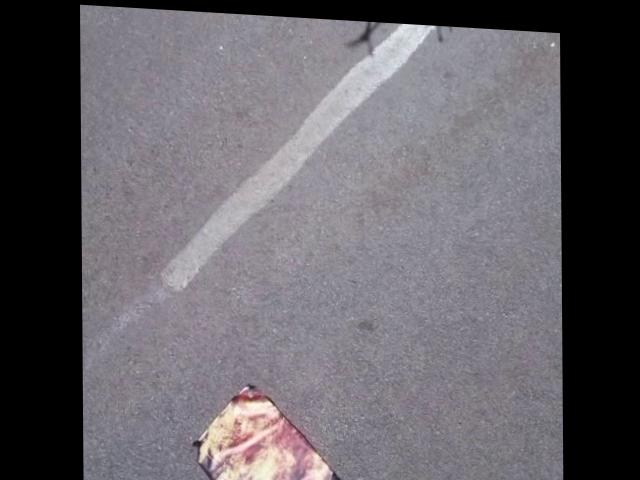fire-poster: (189, 377, 342, 480)
